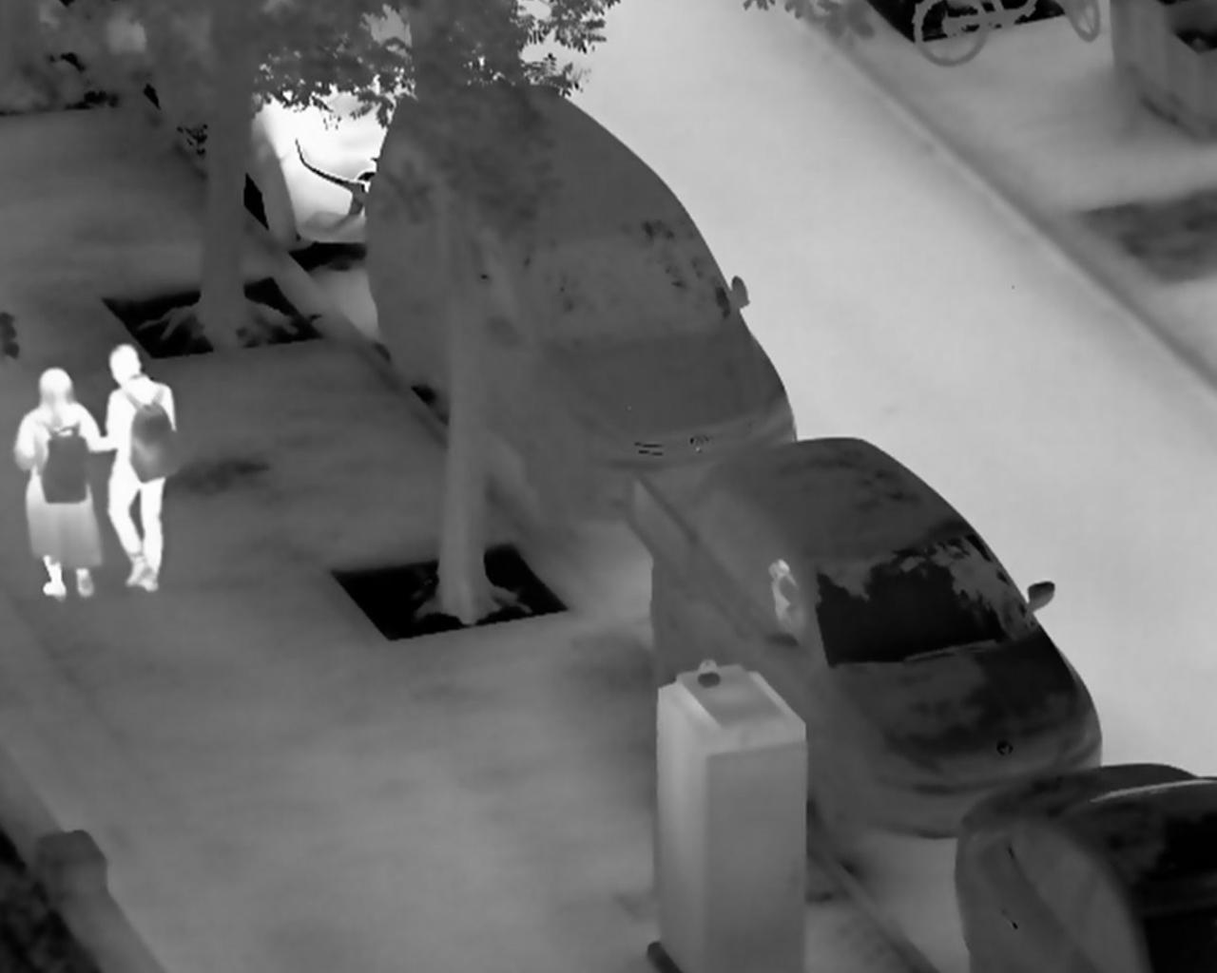person: (11, 366, 103, 603), (102, 342, 183, 595)
